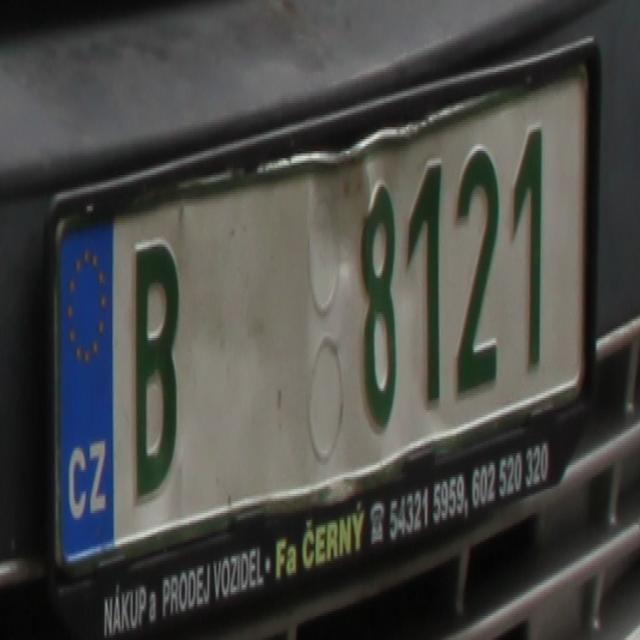1: (508, 122, 546, 379), (406, 156, 444, 403)
2: (453, 139, 500, 393)
8: (359, 184, 399, 430)
B: (131, 232, 180, 503)
